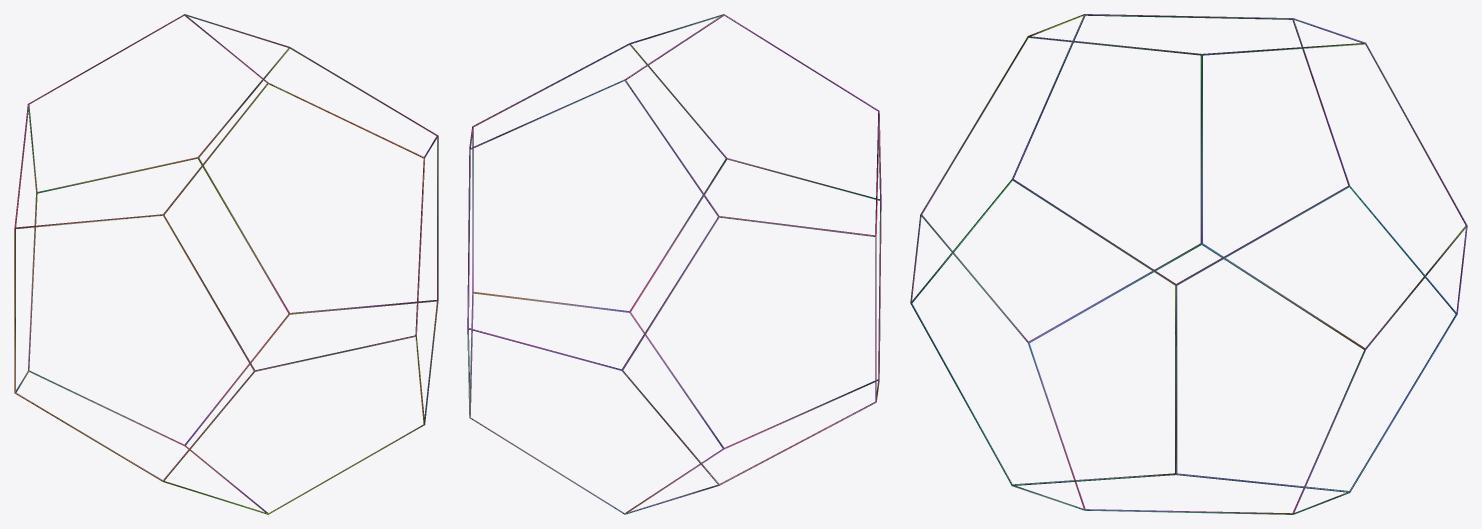
The model's file is zeometry-wireframes-wire-dodecahedron_v4.glb.
3 views of the same model, side by side, from view 1: azimuth 30°, elevation 25°; view 2: azimuth 150°, elevation 25°; view 3: azimuth 270°, elevation 25° (orthographic). The views are drawn at different scales.
Visible parts, largest first — view 1: Wire Dodecahedron_v4; view 2: Wire Dodecahedron_v4; view 3: Wire Dodecahedron_v4.
Boxes of the visible parts, <box> form: Wire Dodecahedron_v4: <box>14,14,438,514</box>; Wire Dodecahedron_v4: <box>467,14,881,514</box>; Wire Dodecahedron_v4: <box>910,14,1467,514</box>.
Bounding box in the file's own units: 0.4912 × 0.4917 × 0.5.
